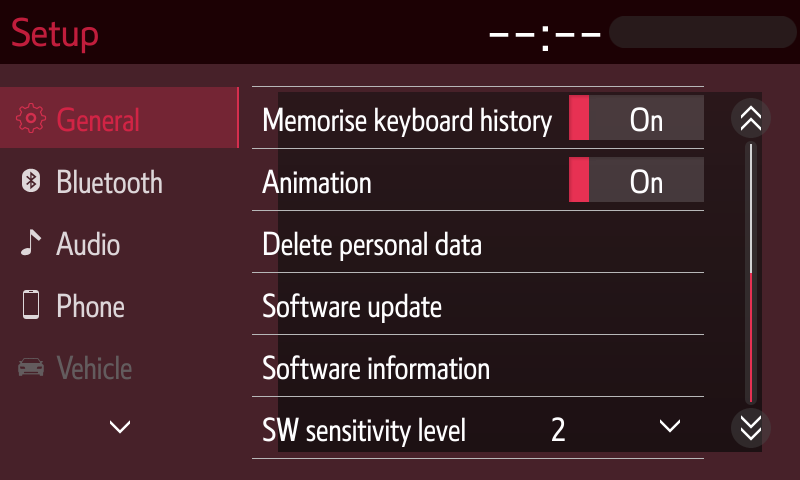touchPart: (248, 268, 704, 343), (252, 80, 707, 155), (246, 331, 706, 405), (254, 206, 706, 281), (253, 144, 707, 218), (243, 394, 707, 461), (17, 166, 170, 200), (14, 288, 139, 328), (13, 225, 129, 263), (728, 94, 777, 138), (727, 407, 773, 448), (101, 403, 138, 441)
untouchPart: (2, 80, 243, 155), (477, 7, 799, 58), (17, 346, 138, 392), (11, 11, 105, 53)
